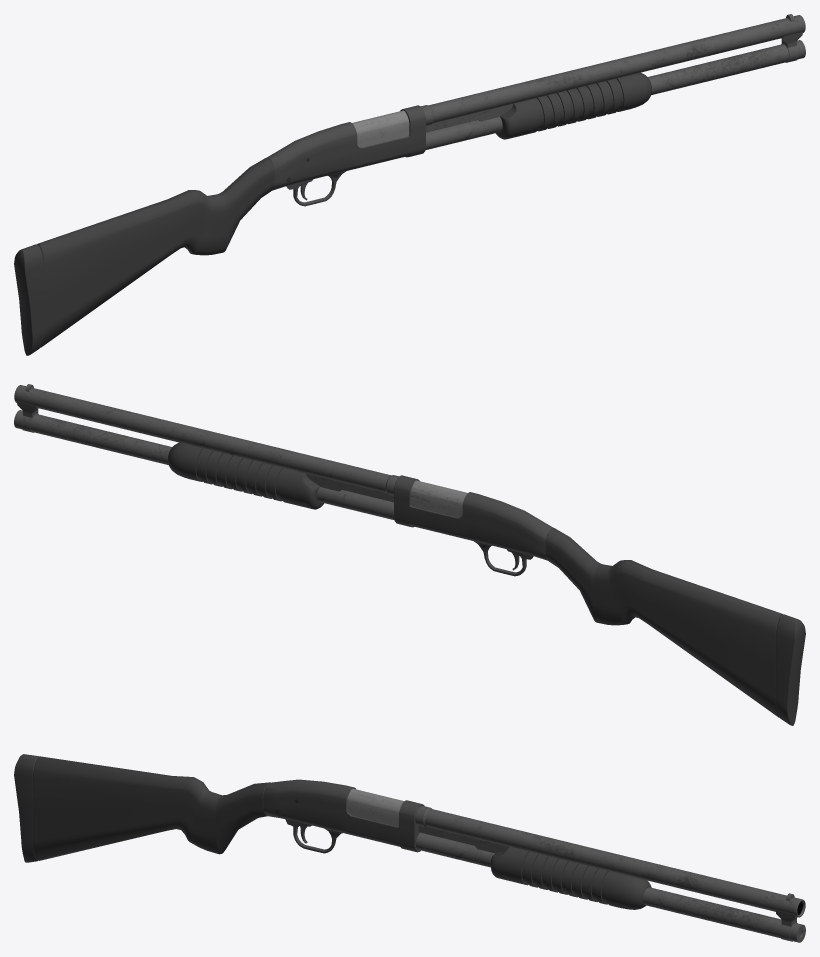
File: ShotgunMossburg98.fbx
3 renders of one model, top to bottom at view 1: azimuth 30°, elevation 25°; view 2: azimuth 150°, elevation 25°; view 3: azimuth 330°, elevation 25°, orthographic.
Visible parts, largest first — view 1: Shotgun, Shotgun_ForeEnd; view 2: Shotgun, Shotgun_ForeEnd; view 3: Shotgun, Shotgun_ForeEnd.
Boxes of the visible parts, box(x1,y1,x2,y2) form: Shotgun: box(14, 14, 805, 355); Shotgun_ForeEnd: box(495, 72, 651, 139); Shotgun: box(14, 384, 805, 725); Shotgun_ForeEnd: box(168, 442, 324, 509); Shotgun: box(14, 754, 805, 942); Shotgun_ForeEnd: box(490, 847, 651, 909).
Size of the model in its own units: 168 by 31.69 by 6.95.
